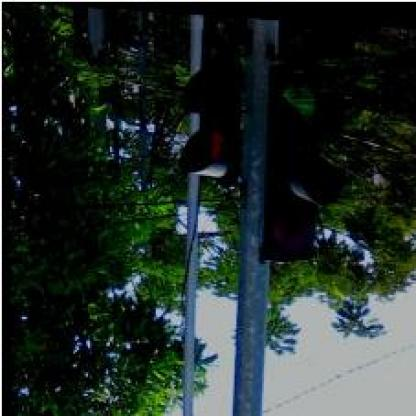green: (256, 60, 349, 263)
